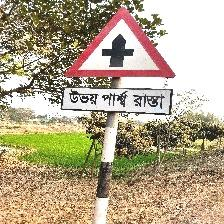Crossroad: (51, 4, 198, 128)
